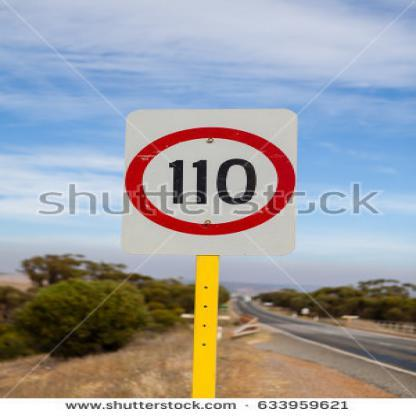Speed Limit 110: (124, 129, 294, 235)
